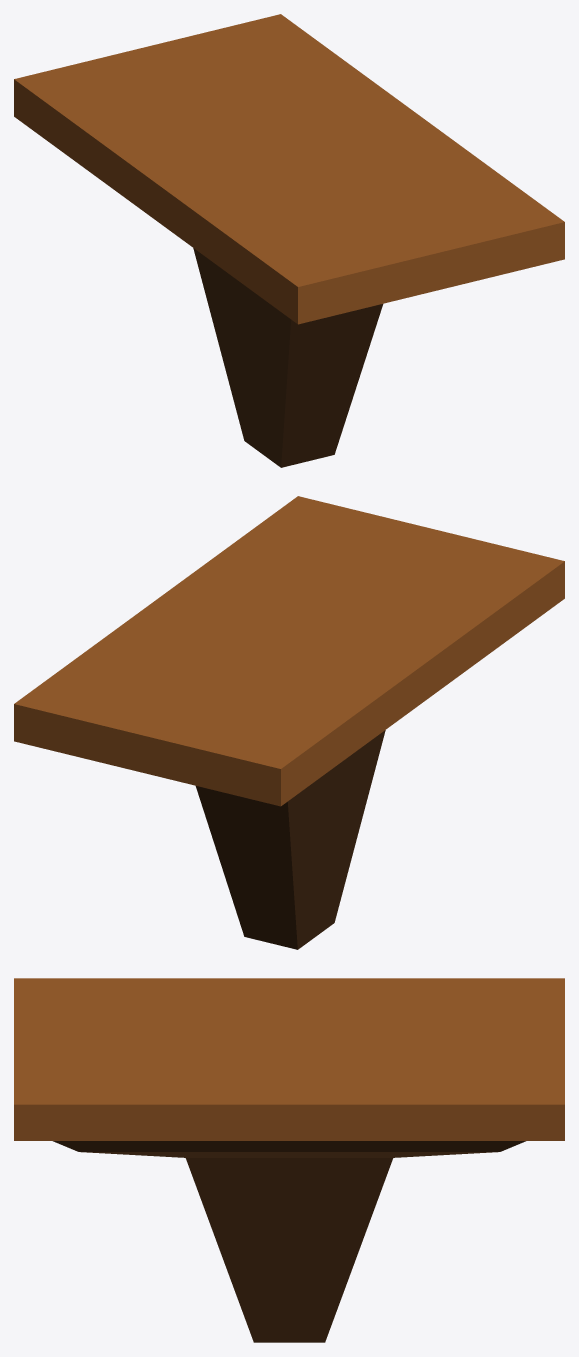
The model's file is Petite_Ile.fbx.
3 renders of one model, top to bottom at view 1: azimuth 30°, elevation 25°; view 2: azimuth 150°, elevation 25°; view 3: azimuth 270°, elevation 25°, orthographic. The views are drawn at different scales.
Visible parts, largest first — view 1: Petite_Ile; view 2: Petite_Ile; view 3: Petite_Ile.
Boxes of the visible parts, box(x1,y1,x2,y2) form: Petite_Ile: box(14, 14, 564, 467); Petite_Ile: box(14, 496, 564, 949); Petite_Ile: box(14, 978, 564, 1342).
Size of the model in its own units: 747 by 795 by 1377.
